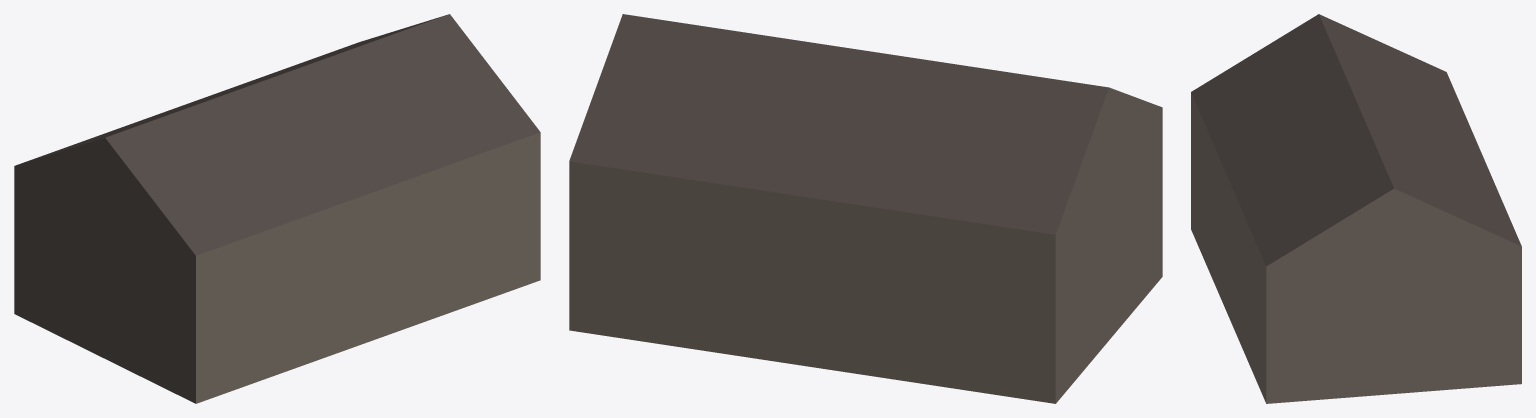
The picture shows the model from 3 angles, left to right: view 1: azimuth 30°, elevation 25°; view 2: azimuth 150°, elevation 25°; view 3: azimuth 270°, elevation 25°; orthographic projection. The views are drawn at different scales.
Parts seen in each view (by area): view 1: HP-w1200814970; view 2: HP-w1200814970; view 3: HP-w1200814970.
Part boxes in pixels (x1,y1,x2,y2): HP-w1200814970: (14,14,540,403); HP-w1200814970: (569,14,1162,403); HP-w1200814970: (1191,14,1521,403).
Bounding box in the file's own units: 27.31 × 13.45 × 19.64.
